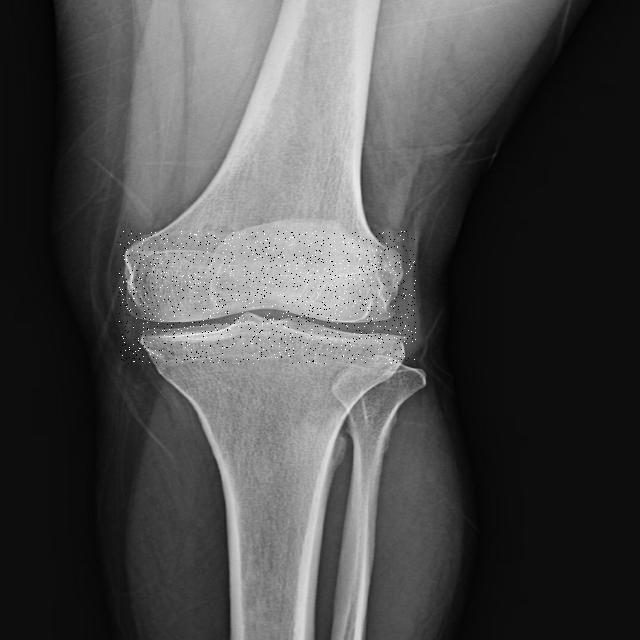normal: (118, 231, 416, 364)
